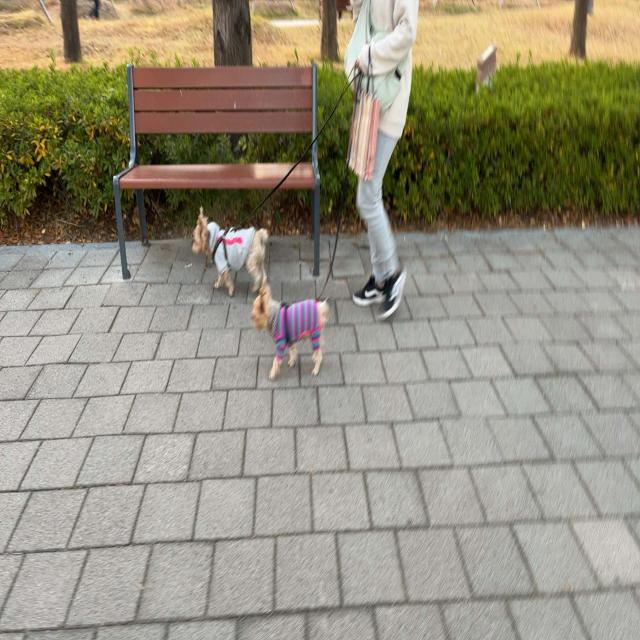Leashed_Dog: (190, 52, 378, 298), (250, 50, 378, 380)
